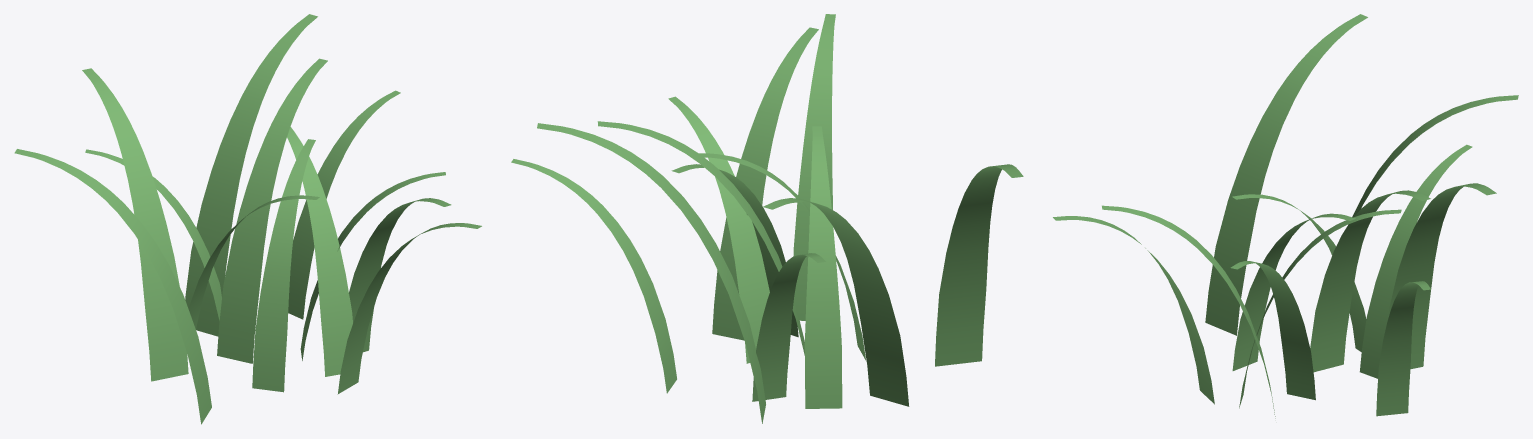
Rendered from grass_tuft_02.fbx.
The picture shows the model from 3 angles, left to right: view 1: azimuth 30°, elevation 25°; view 2: azimuth 150°, elevation 25°; view 3: azimuth 270°, elevation 25°; orthographic projection. The views are drawn at different scales.
Visible parts, largest first — view 1: Grass2; view 2: Grass2; view 3: Grass2.
Part boxes in pixels (<box>): Grass2: <box>14,14,481,424</box>; Grass2: <box>511,14,1023,423</box>; Grass2: <box>1053,14,1518,418</box>.
Size of the model in its own units: 65.17 by 36.9 by 61.03.
